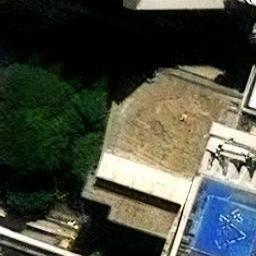heliponto: (193, 194, 255, 255)
